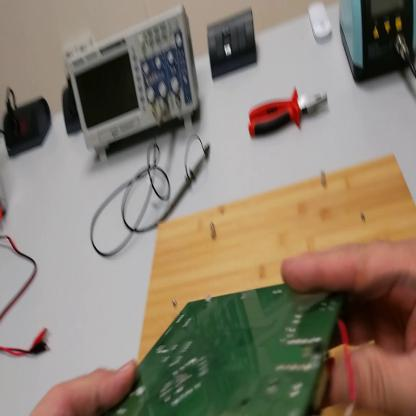hand: (281, 239, 416, 416), (34, 359, 139, 416)
low voltage board: (105, 262, 357, 415)
oscilloscope: (70, 6, 197, 163)
oscilloscope probe tip: (160, 156, 206, 229)
pliers: (249, 88, 328, 141)
socket: (4, 88, 50, 161), (59, 82, 84, 141)
welder station: (338, 2, 415, 89)
working area: (137, 147, 416, 363)
